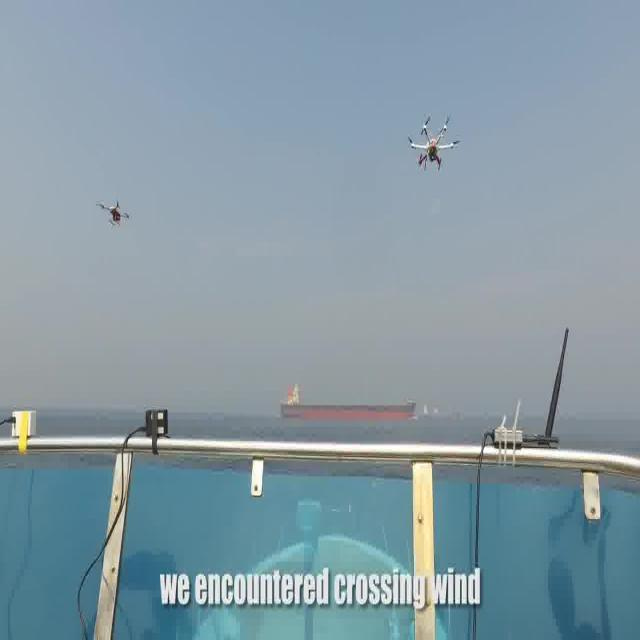drone: (410, 109, 456, 172), (98, 193, 130, 229)
